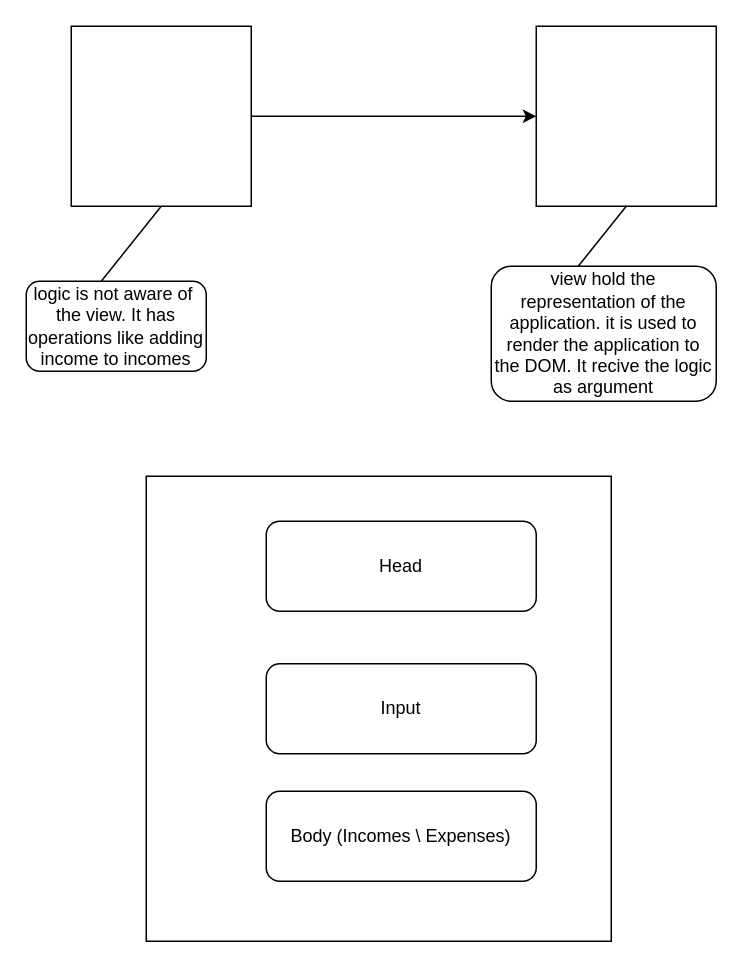
This 743x968 diagram has some shape labels left out. The centre of each missing label's shape, as x and y in pixels:
"Logic" goes at pixel 160 115.
"View" goes at pixel 625 115.
